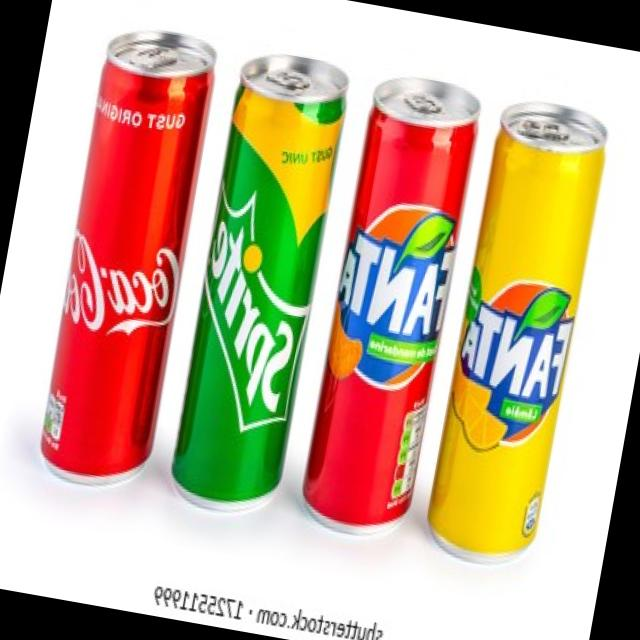cocacola: (24, 14, 229, 510)
sprite: (170, 44, 348, 511)
